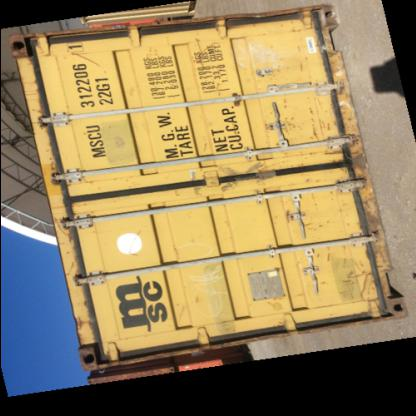Damage: (320, 242, 400, 320), (301, 92, 333, 144), (272, 98, 302, 146), (245, 5, 285, 32), (338, 146, 368, 180), (353, 202, 379, 238), (187, 33, 209, 69), (50, 216, 76, 246), (68, 50, 102, 72), (124, 222, 144, 257), (62, 252, 83, 284), (26, 106, 51, 132), (69, 310, 88, 344), (291, 40, 305, 72), (21, 76, 41, 98), (304, 188, 318, 212), (192, 138, 209, 156), (168, 301, 180, 323), (210, 79, 222, 101), (274, 210, 294, 223), (286, 22, 304, 36), (188, 291, 199, 311), (312, 219, 328, 229), (300, 178, 318, 184)
